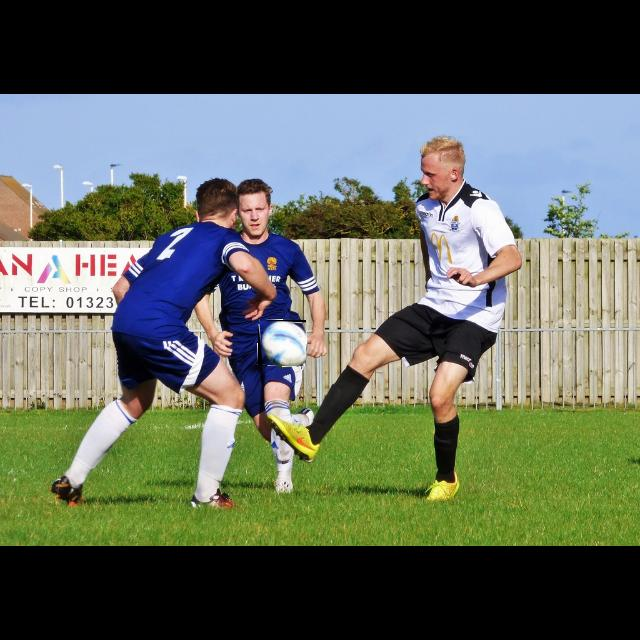Football: (258, 320, 306, 366)
